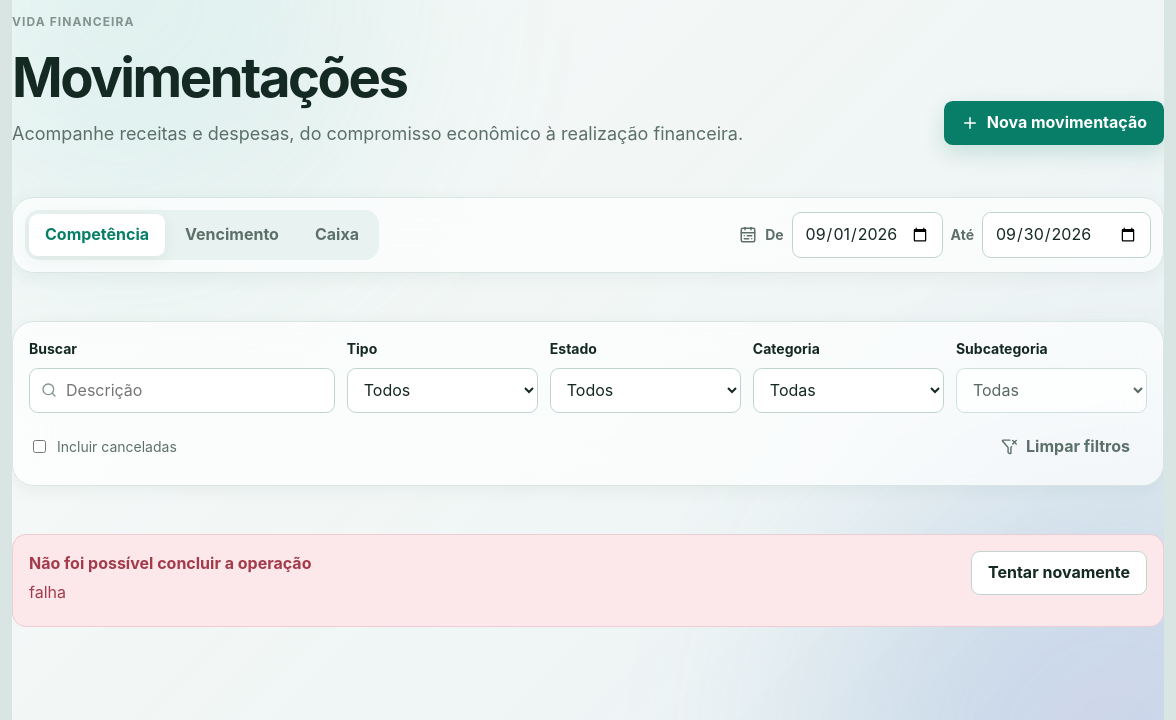
Movimentações Web › exibe erro e permite tentar novamente
Expected: the message "Não foi possível concluir a operação falha Tentar novamente" is shown, [12, 534, 1164, 627]
What coordinates should you click on to do the following:
click the button "Tentar novamente"
I would click on:
 (1059, 573)
Its box is [971, 551, 1147, 595].
(page scrolled)
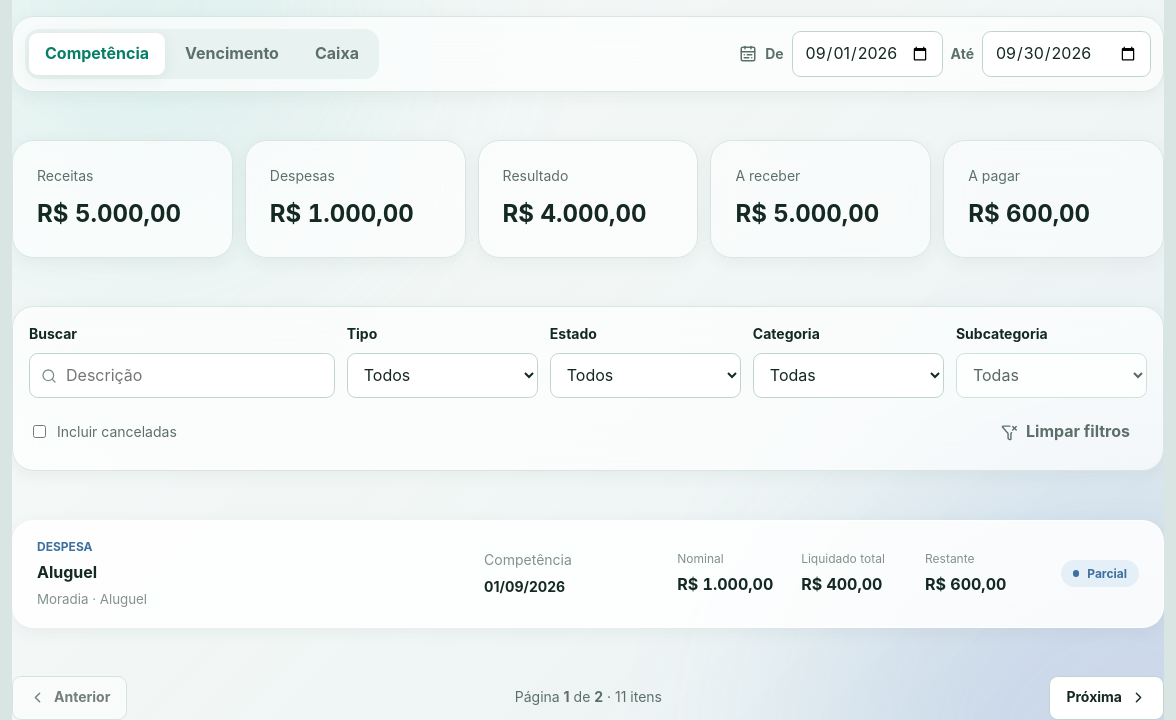
Expected: the text "Aluguel" is shown, [37, 562, 97, 582]
